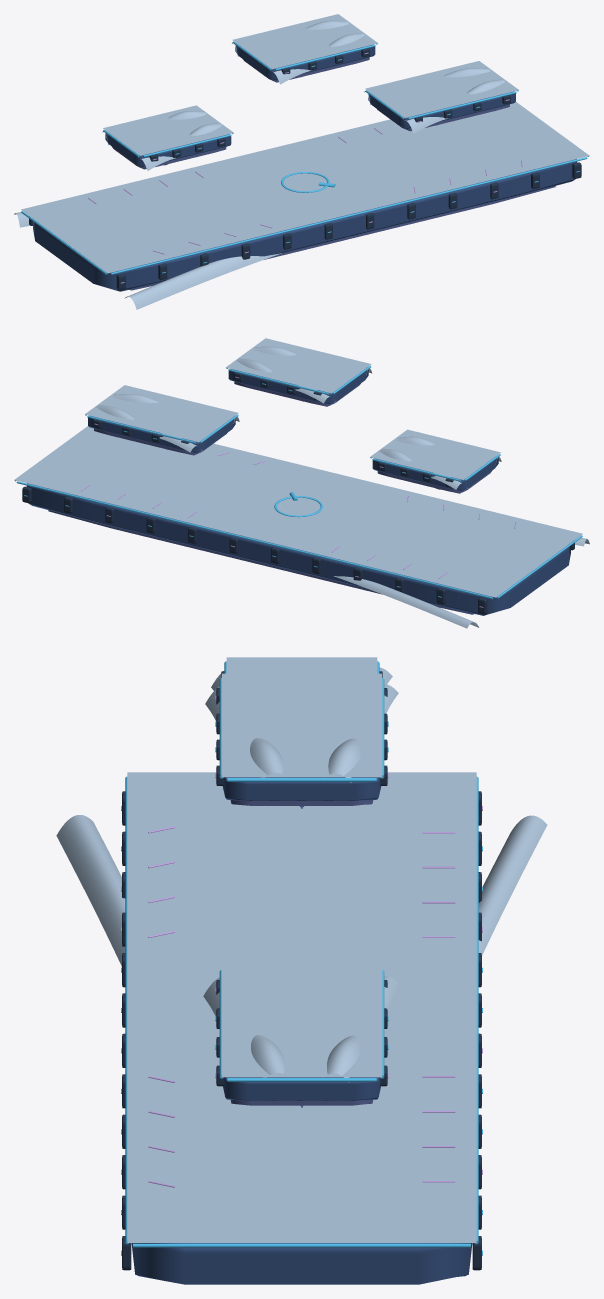
File: azure-fold.obj
3 views of the same model, one above another, from view 1: azimuth 30°, elevation 25°; view 2: azimuth 150°, elevation 25°; view 3: azimuth 270°, elevation 25° (orthographic). The views are drawn at different scales.
Parts seen in each view (by area): view 1: arena-deck_part_152, beveled-plate_part_0, arena-deck_part_154, arena-deck_part_155, arena-deck_part_153, mineral-ribbon_part_157, cylinder_part_114, beveled-plate_part_68, beveled-plate_part_86, beveled-plate_part_50, beveled-plate_part_1, mineral-ribbon_part_161 (+2 smaller); view 2: arena-deck_part_152, beveled-plate_part_0, arena-deck_part_154, arena-deck_part_155, arena-deck_part_153, cylinder_part_112, mineral-ribbon_part_156, beveled-plate_part_68, beveled-plate_part_86, beveled-plate_part_50, beveled-plate_part_1, mineral-ribbon_part_160 (+3 smaller); view 3: arena-deck_part_152, arena-deck_part_154, arena-deck_part_155, beveled-plate_part_0, mineral-ribbon_part_157, mineral-ribbon_part_156, beveled-plate_part_86, beveled-plate_part_68, arena-deck_part_153, cylinder_part_115, cylinder_part_112, cylinder_part_114 (+4 smaller).
Part boxes in pixels (<box>): arena-deck_part_152: <box>21,102,589,273</box>; beveled-plate_part_0: <box>33,159,577,291</box>; arena-deck_part_154: <box>365,61,518,117</box>; arena-deck_part_155: <box>232,14,377,69</box>; arena-deck_part_153: <box>103,105,233,155</box>; mineral-ribbon_part_157: <box>124,253,281,309</box>; cylinder_part_114: <box>110,157,587,274</box>; beveled-plate_part_68: <box>368,91,515,128</box>; beveled-plate_part_86: <box>235,44,375,80</box>; beveled-plate_part_50: <box>105,131,231,166</box>; beveled-plate_part_1: <box>129,186,555,290</box>; mineral-ribbon_part_161: <box>401,79,504,133</box>; arena-deck_part_152: <box>14,426,582,597</box>; beveled-plate_part_0: <box>26,483,570,615</box>; arena-deck_part_154: <box>85,385,238,442</box>; arena-deck_part_155: <box>226,338,371,393</box>; arena-deck_part_153: <box>370,429,500,479</box>; cylinder_part_112: <box>16,481,493,599</box>; mineral-ribbon_part_156: <box>333,576,479,628</box>; beveled-plate_part_68: <box>88,415,235,453</box>; beveled-plate_part_86: <box>228,369,368,404</box>; beveled-plate_part_50: <box>372,457,498,491</box>; beveled-plate_part_1: <box>48,510,473,614</box>; mineral-ribbon_part_160: <box>96,405,202,452</box>; arena-deck_part_152: <box>127,772,476,1242</box>; arena-deck_part_154: <box>221,965,382,1077</box>; arena-deck_part_155: <box>221,673,382,777</box>; beveled-plate_part_0: <box>131,1243,472,1284</box>; mineral-ribbon_part_157: <box>56,815,125,966</box>; mineral-ribbon_part_156: <box>478,815,547,955</box>; beveled-plate_part_86: <box>222,777,381,800</box>; beveled-plate_part_68: <box>223,1077,380,1100</box>; arena-deck_part_153: <box>226,657,377,673</box>; cylinder_part_115: <box>133,1243,470,1247</box>; cylinder_part_112: <box>475,776,478,1244</box>; cylinder_part_114: <box>125,776,128,1244</box>.
Size of the model in its own units: 23.69 by 8.81 by 10.41.
